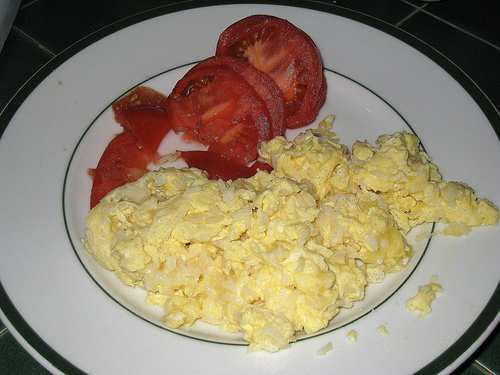egg: (83, 110, 499, 355)
